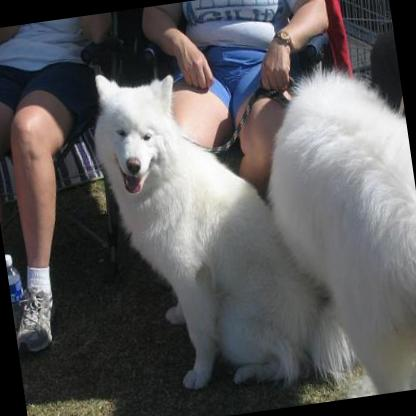Samoyed: (84, 44, 358, 409), (243, 50, 416, 404)
